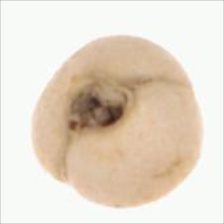L3: (65, 75, 136, 132)
L4: (31, 34, 203, 208)
